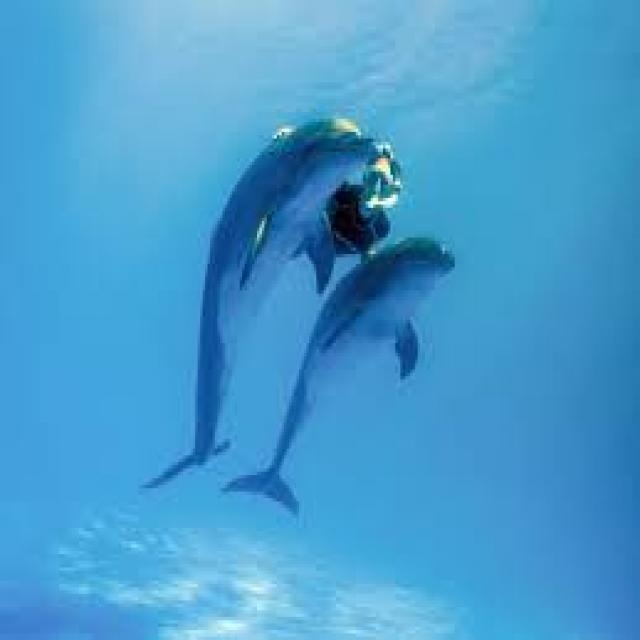dolphin: (116, 80, 403, 494), (238, 185, 480, 551)
